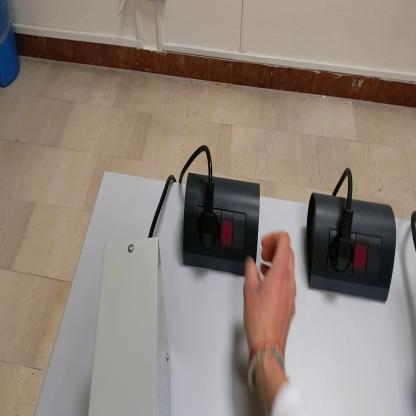hand: (244, 230, 298, 356)
power supply: (86, 238, 168, 415)
socket: (306, 190, 399, 303), (182, 174, 261, 280)
